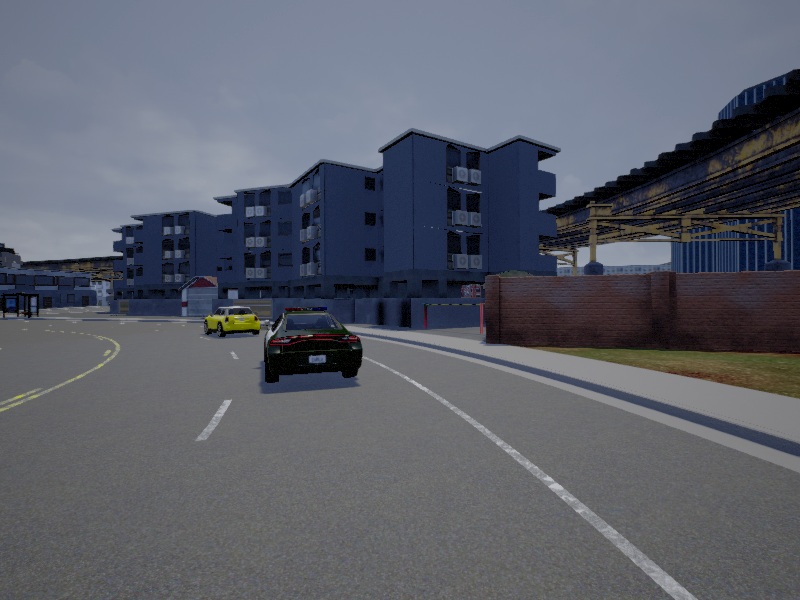Benign: (263, 311, 364, 381), (203, 307, 264, 337)
